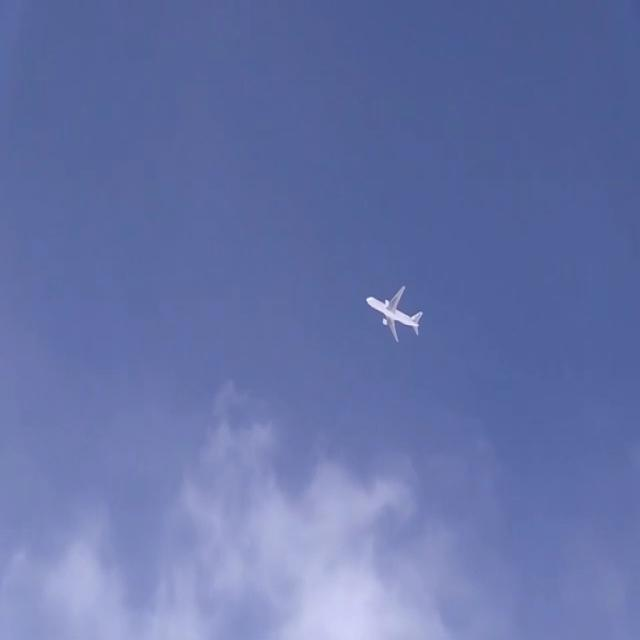AirPlane: (357, 270, 433, 353)
